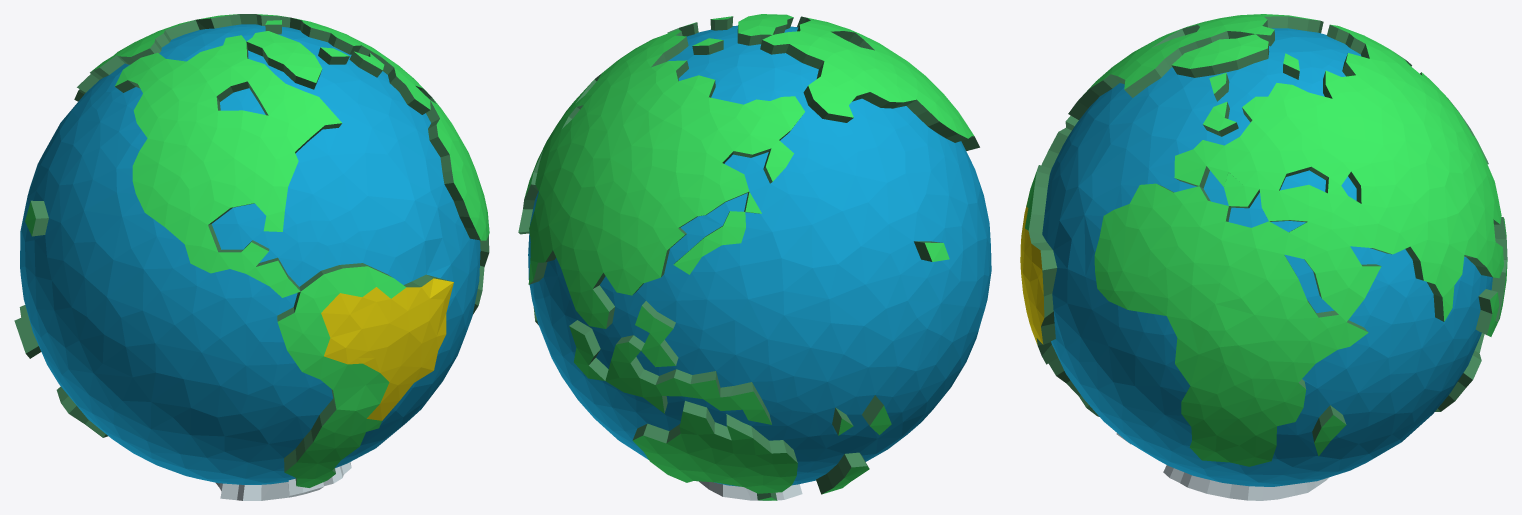
Rendered from earth.glb.
3 renders of one model, left to right at view 1: azimuth 30°, elevation 25°; view 2: azimuth 150°, elevation 25°; view 3: azimuth 270°, elevation 25°, orthographic.
Parts seen in each view (by area): view 1: Sphere; view 2: Sphere; view 3: Sphere.
Part boxes in pixels (x1=…): Sphere: x1=14, y1=14, x2=489, y2=500; Sphere: x1=518, y1=14, x2=991, y2=500; Sphere: x1=1020, y1=14, x2=1507, y2=500.
Size of the model in its own units: 2.07 by 2.11 by 2.12.
